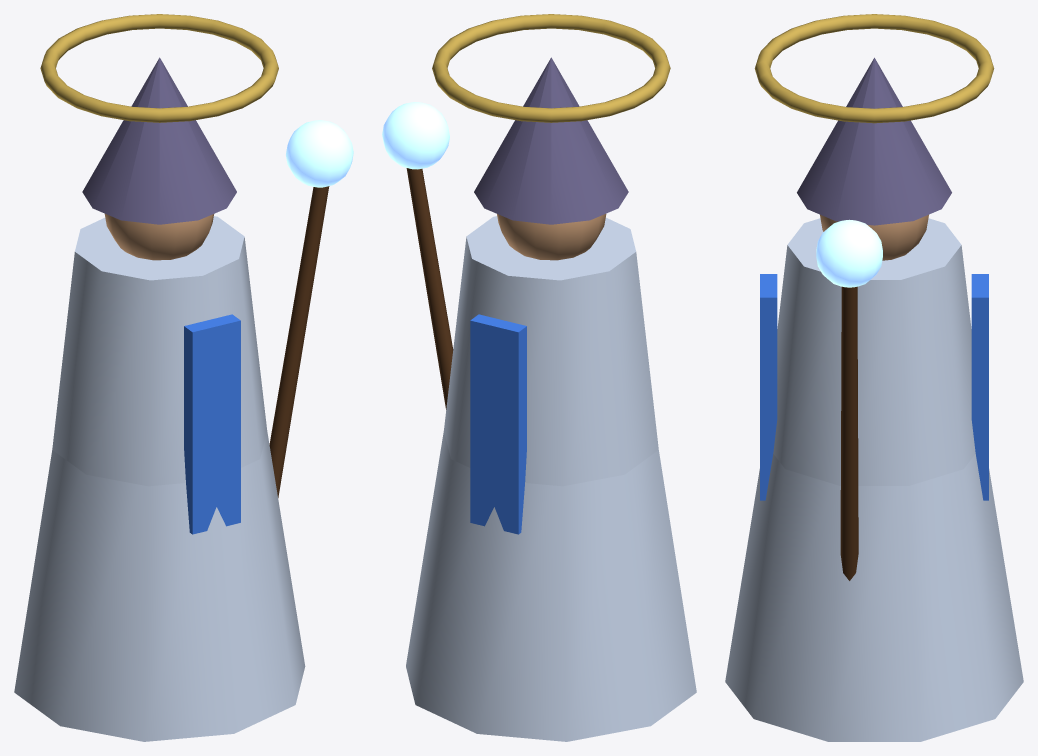
File: archmage.glb
The picture shows the model from 3 angles, left to right: view 1: azimuth 30°, elevation 25°; view 2: azimuth 150°, elevation 25°; view 3: azimuth 270°, elevation 25°; orthographic projection.
Visible parts, largest first — view 1: archmage-robe-lower, archmage-robe-upper, archmage-hat, archmage-team-sash-front, archmage-hero-gold-halo, archmage-staff-shaft, archmage-staff-arcane-orb, archmage-head; view 2: archmage-robe-lower, archmage-robe-upper, archmage-hat, archmage-team-sash-back, archmage-hero-gold-halo, archmage-staff-shaft, archmage-staff-arcane-orb, archmage-head; view 3: archmage-robe-lower, archmage-robe-upper, archmage-hat, archmage-hero-gold-halo, archmage-staff-shaft, archmage-staff-arcane-orb, archmage-team-sash-front, archmage-team-sash-back, archmage-head.
Part boxes in pixels (x1,y1,x2,y2): archmage-robe-lower: (14, 431, 305, 741); archmage-robe-upper: (52, 216, 267, 486); archmage-hat: (82, 57, 236, 224); archmage-team-sash-front: (184, 314, 240, 534); archmage-hero-gold-halo: (40, 14, 278, 122); archmage-staff-shaft: (269, 186, 329, 497); archmage-staff-arcane-orb: (286, 120, 353, 187); archmage-head: (104, 214, 213, 260); archmage-robe-lower: (406, 431, 696, 741); archmage-robe-upper: (444, 216, 658, 486); archmage-hat: (474, 57, 628, 224); archmage-team-sash-back: (470, 314, 526, 534); archmage-hero-gold-halo: (432, 14, 670, 122); archmage-staff-shaft: (406, 168, 453, 409); archmage-staff-arcane-orb: (382, 102, 449, 169); archmage-head: (497, 214, 606, 260); archmage-robe-lower: (725, 454, 1023, 741); archmage-robe-upper: (773, 218, 975, 485); archmage-hat: (797, 57, 951, 225); archmage-hero-gold-halo: (754, 14, 994, 123); archmage-staff-shaft: (840, 286, 858, 580); archmage-staff-arcane-orb: (816, 219, 882, 287); archmage-team-sash-front: (760, 274, 777, 500); archmage-team-sash-back: (971, 274, 988, 500); archmage-head: (820, 214, 928, 260).
Bounding box in the file's own units: 1.12 × 2.21 × 0.96.
